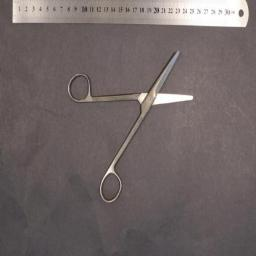Curved Mayo Scissors: (66, 50, 194, 202)
